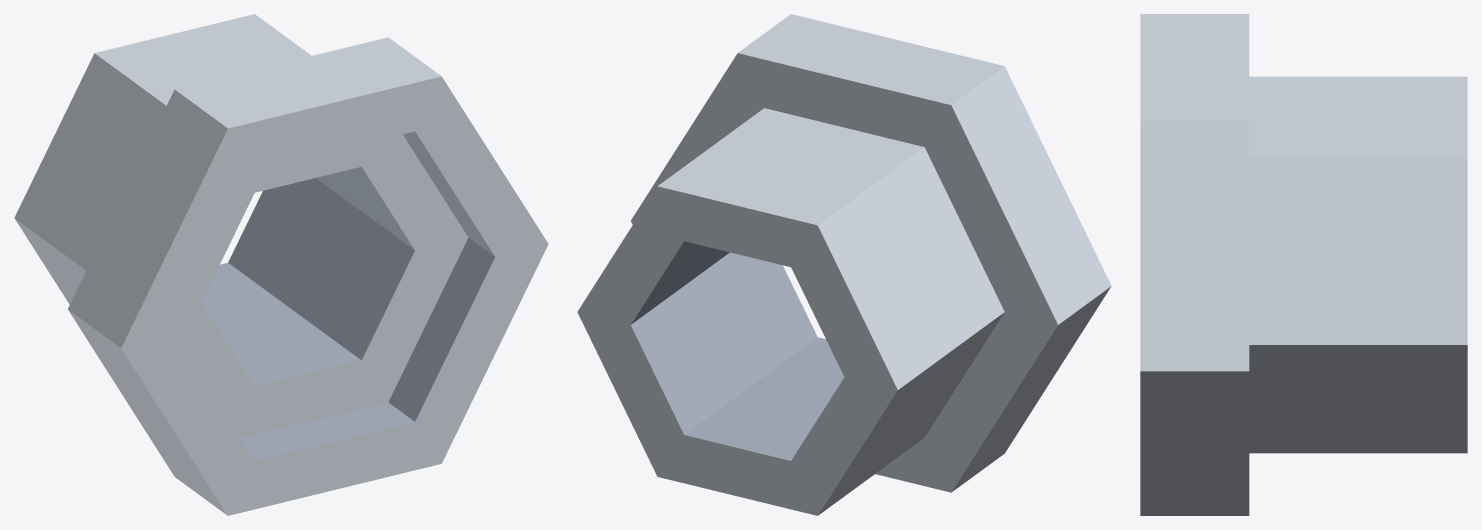
Rendered from pipe_entrance.dae.
3 views of the same model, side by side, from view 1: azimuth 30°, elevation 25°; view 2: azimuth 150°, elevation 25°; view 3: azimuth 270°, elevation 25° (orthographic). The views are drawn at different scales.
Parts seen in each view (by area): view 1: pipe_entrance; view 2: pipe_entrance; view 3: pipe_entrance.
Boxes of the visible parts, left/top/right/bottom form: pipe_entrance: left=14, top=14, right=548, bottom=515; pipe_entrance: left=577, top=14, right=1111, bottom=515; pipe_entrance: left=1140, top=14, right=1467, bottom=515.
Size of the model in its own units: 0.9238 by 0.8 by 0.6.
